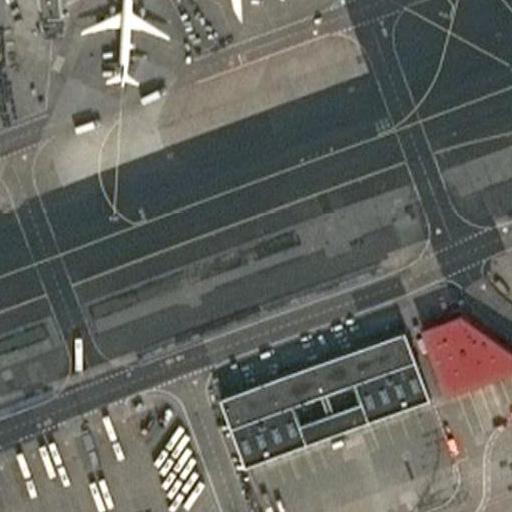Aircraft: (127, 0, 350, 36), (80, 0, 160, 83)
